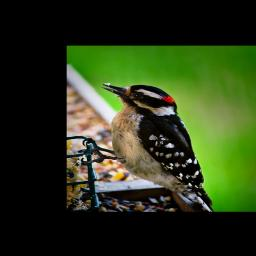Woodpecker: (78, 83, 214, 211)
